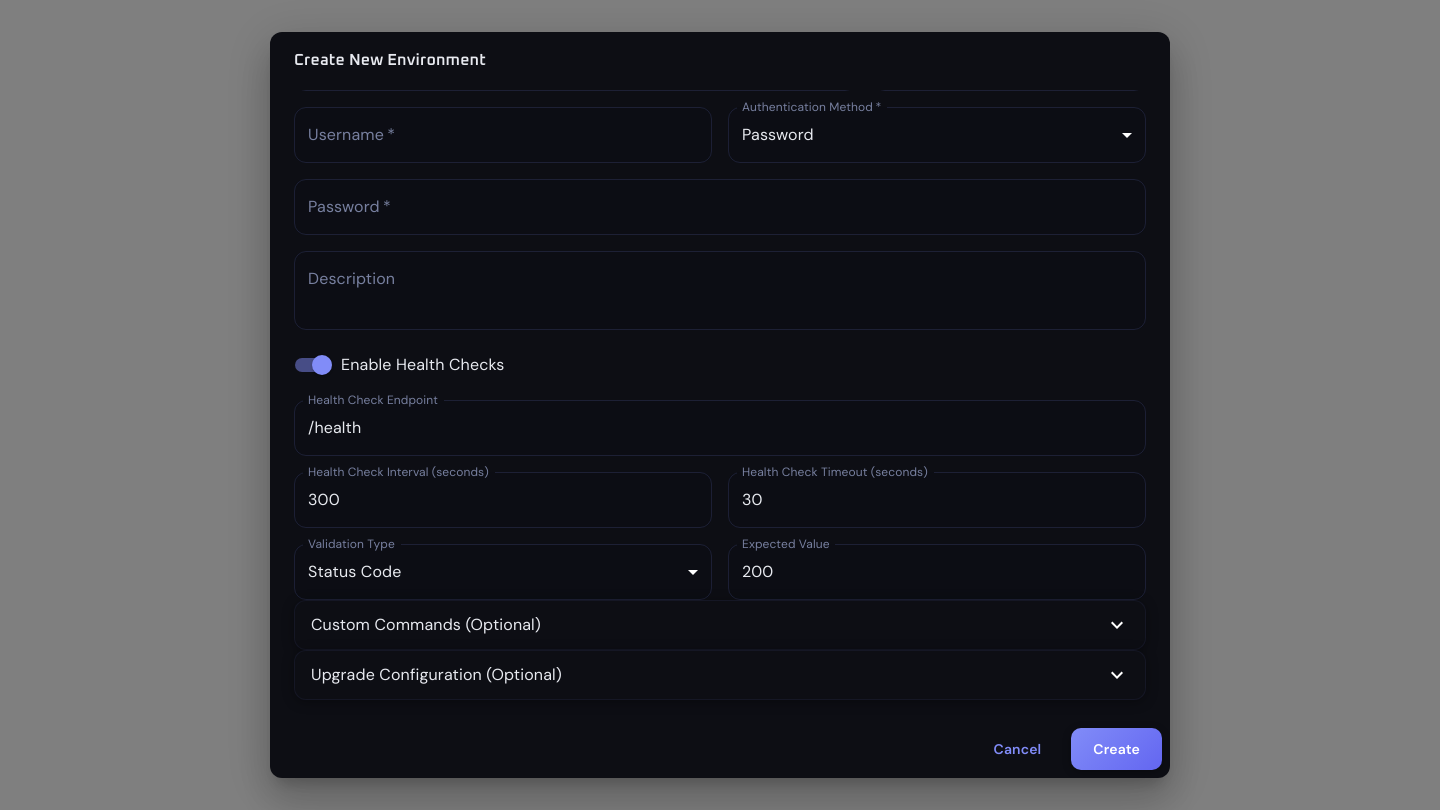
Test: CreateEnvironmentDialog › expands custom commands accordion and shows SSH command field
(page scrolled)
Expected: the text "Custom Commands (Optional)" is shown, [311, 612, 541, 636]
# Click the accordion summary to expand
Click the button "Custom Commands (Optional)".
click(426, 624)  # box [311, 612, 1129, 636]
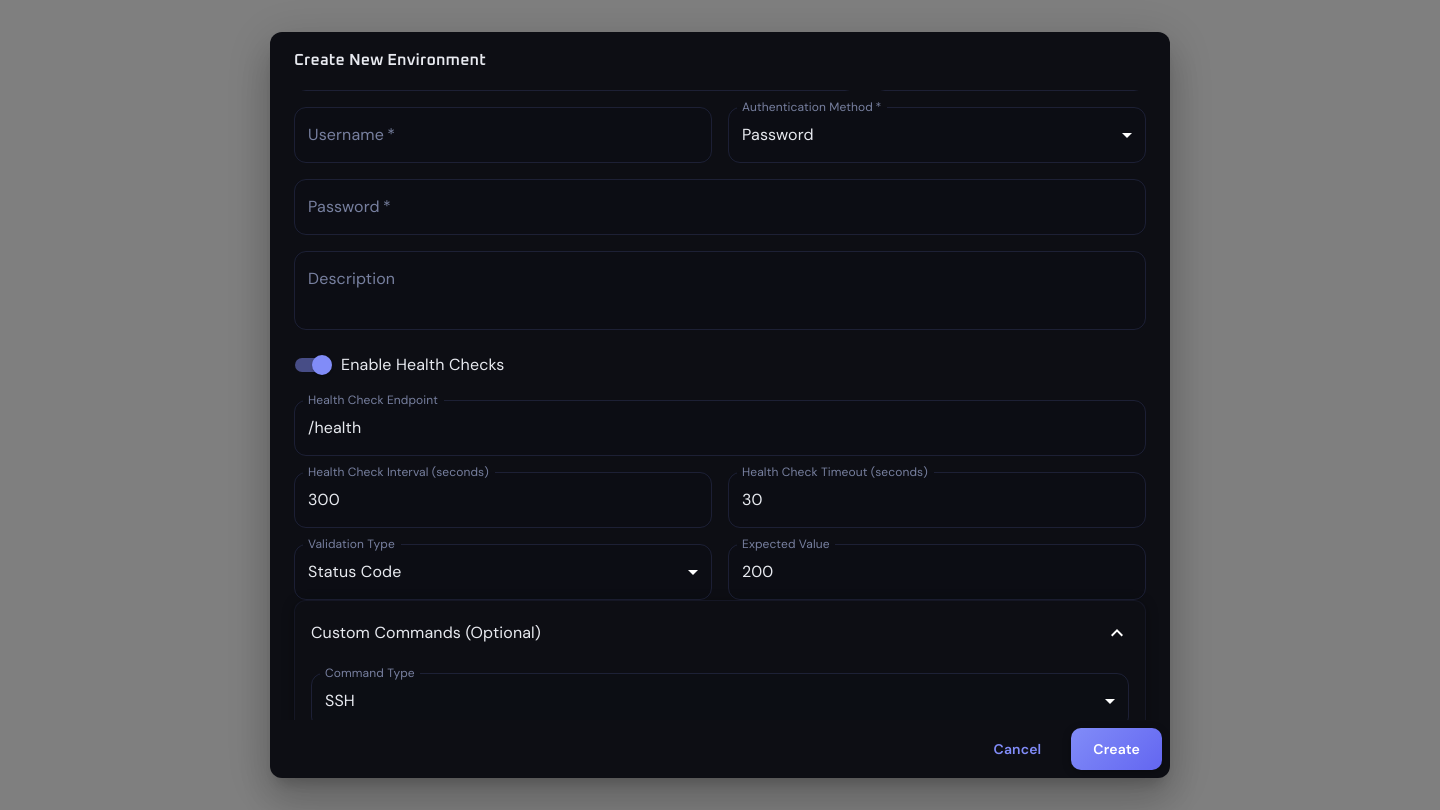
Expected: the dropdown named "command type" is shown, [325, 690, 355, 711]
